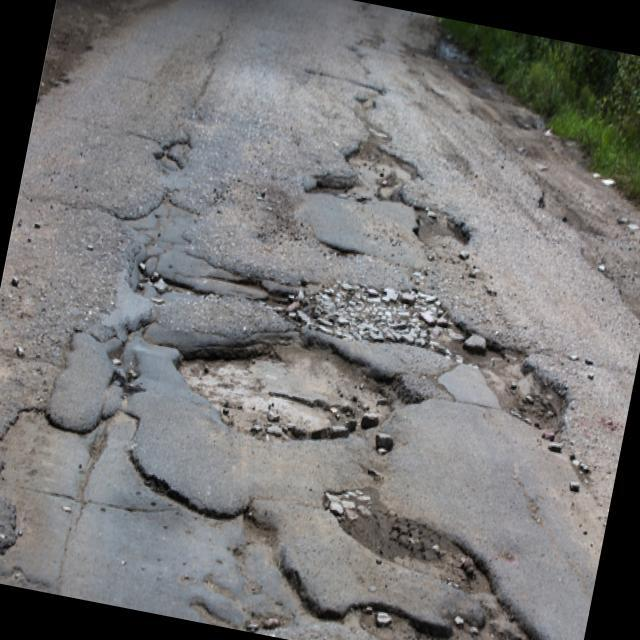Pothole: (164, 322, 417, 462), (307, 464, 512, 610), (358, 566, 586, 640), (467, 334, 591, 452), (312, 118, 430, 216), (125, 250, 204, 314), (408, 203, 481, 263), (347, 83, 385, 115)
